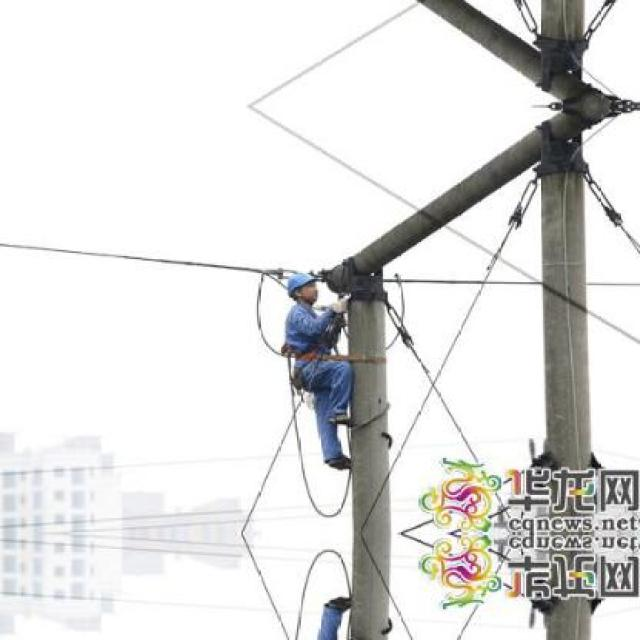helmet: (281, 268, 325, 304)
